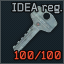IDEA cash register key: (0, 0, 64, 64)
